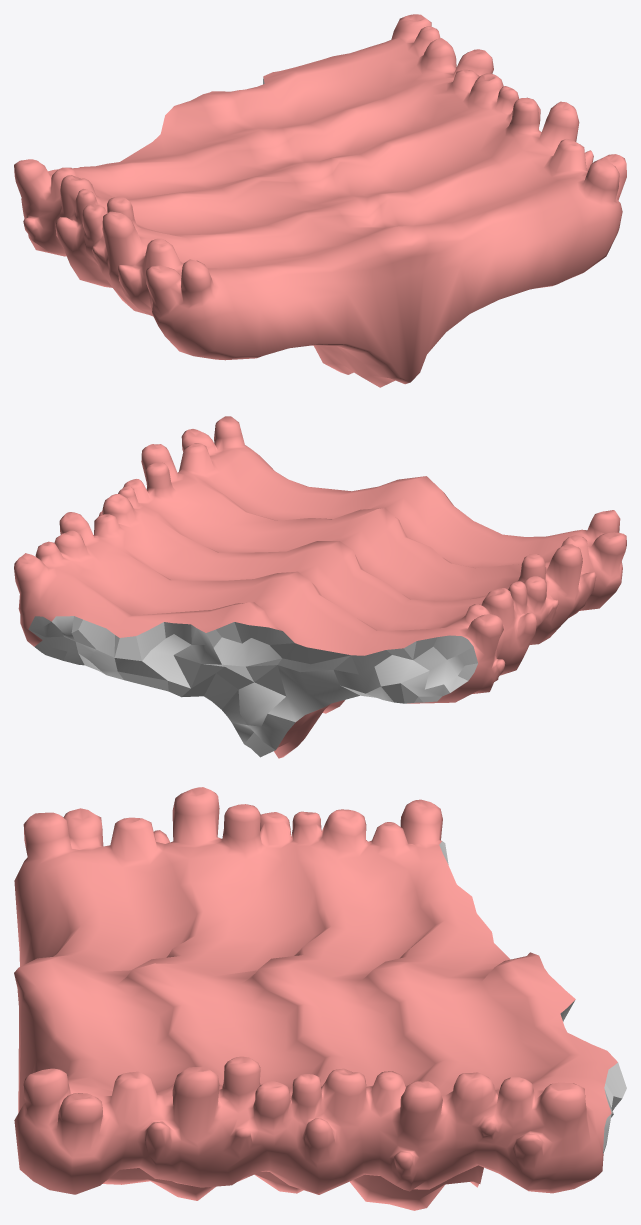
Rendered from SM_Plateform_02.fbx.
3 views of the same model, one above another, from view 1: azimuth 30°, elevation 25°; view 2: azimuth 150°, elevation 25°; view 3: azimuth 270°, elevation 25° (orthographic). The views are drawn at different scales.
Visible parts, largest first — view 1: Plateform_low_02; view 2: Plateform_low_02; view 3: Plateform_low_02.
Boxes of the visible parts, left/top/right/bottom form: Plateform_low_02: left=14, top=14, right=626, bottom=387; Plateform_low_02: left=14, top=416, right=626, bottom=758; Plateform_low_02: left=14, top=787, right=626, bottom=1210.
Bounding box in the file's own units: 451 × 200 × 394.
